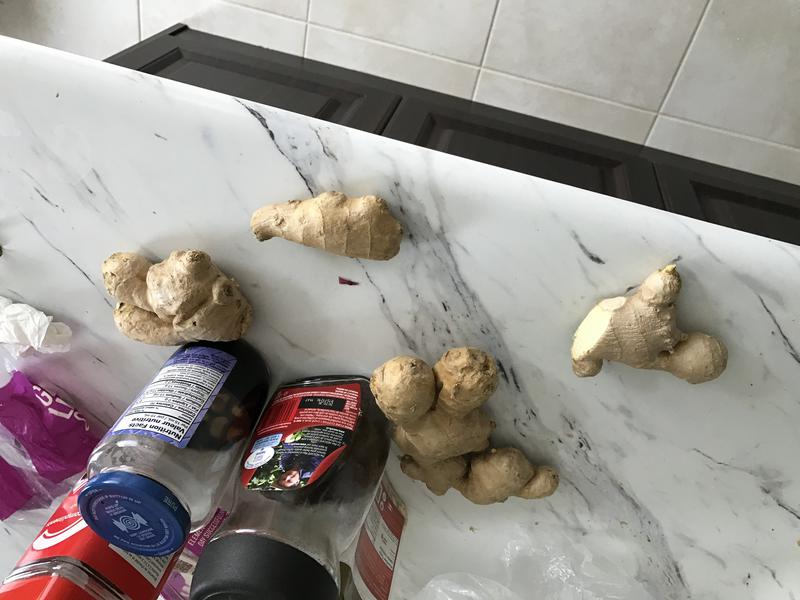ginger: (363, 342, 573, 508), (559, 246, 741, 394), (92, 245, 271, 354), (241, 181, 414, 270)
